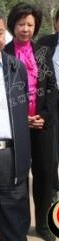boots: (0, 210, 7, 225), (0, 198, 8, 211)
